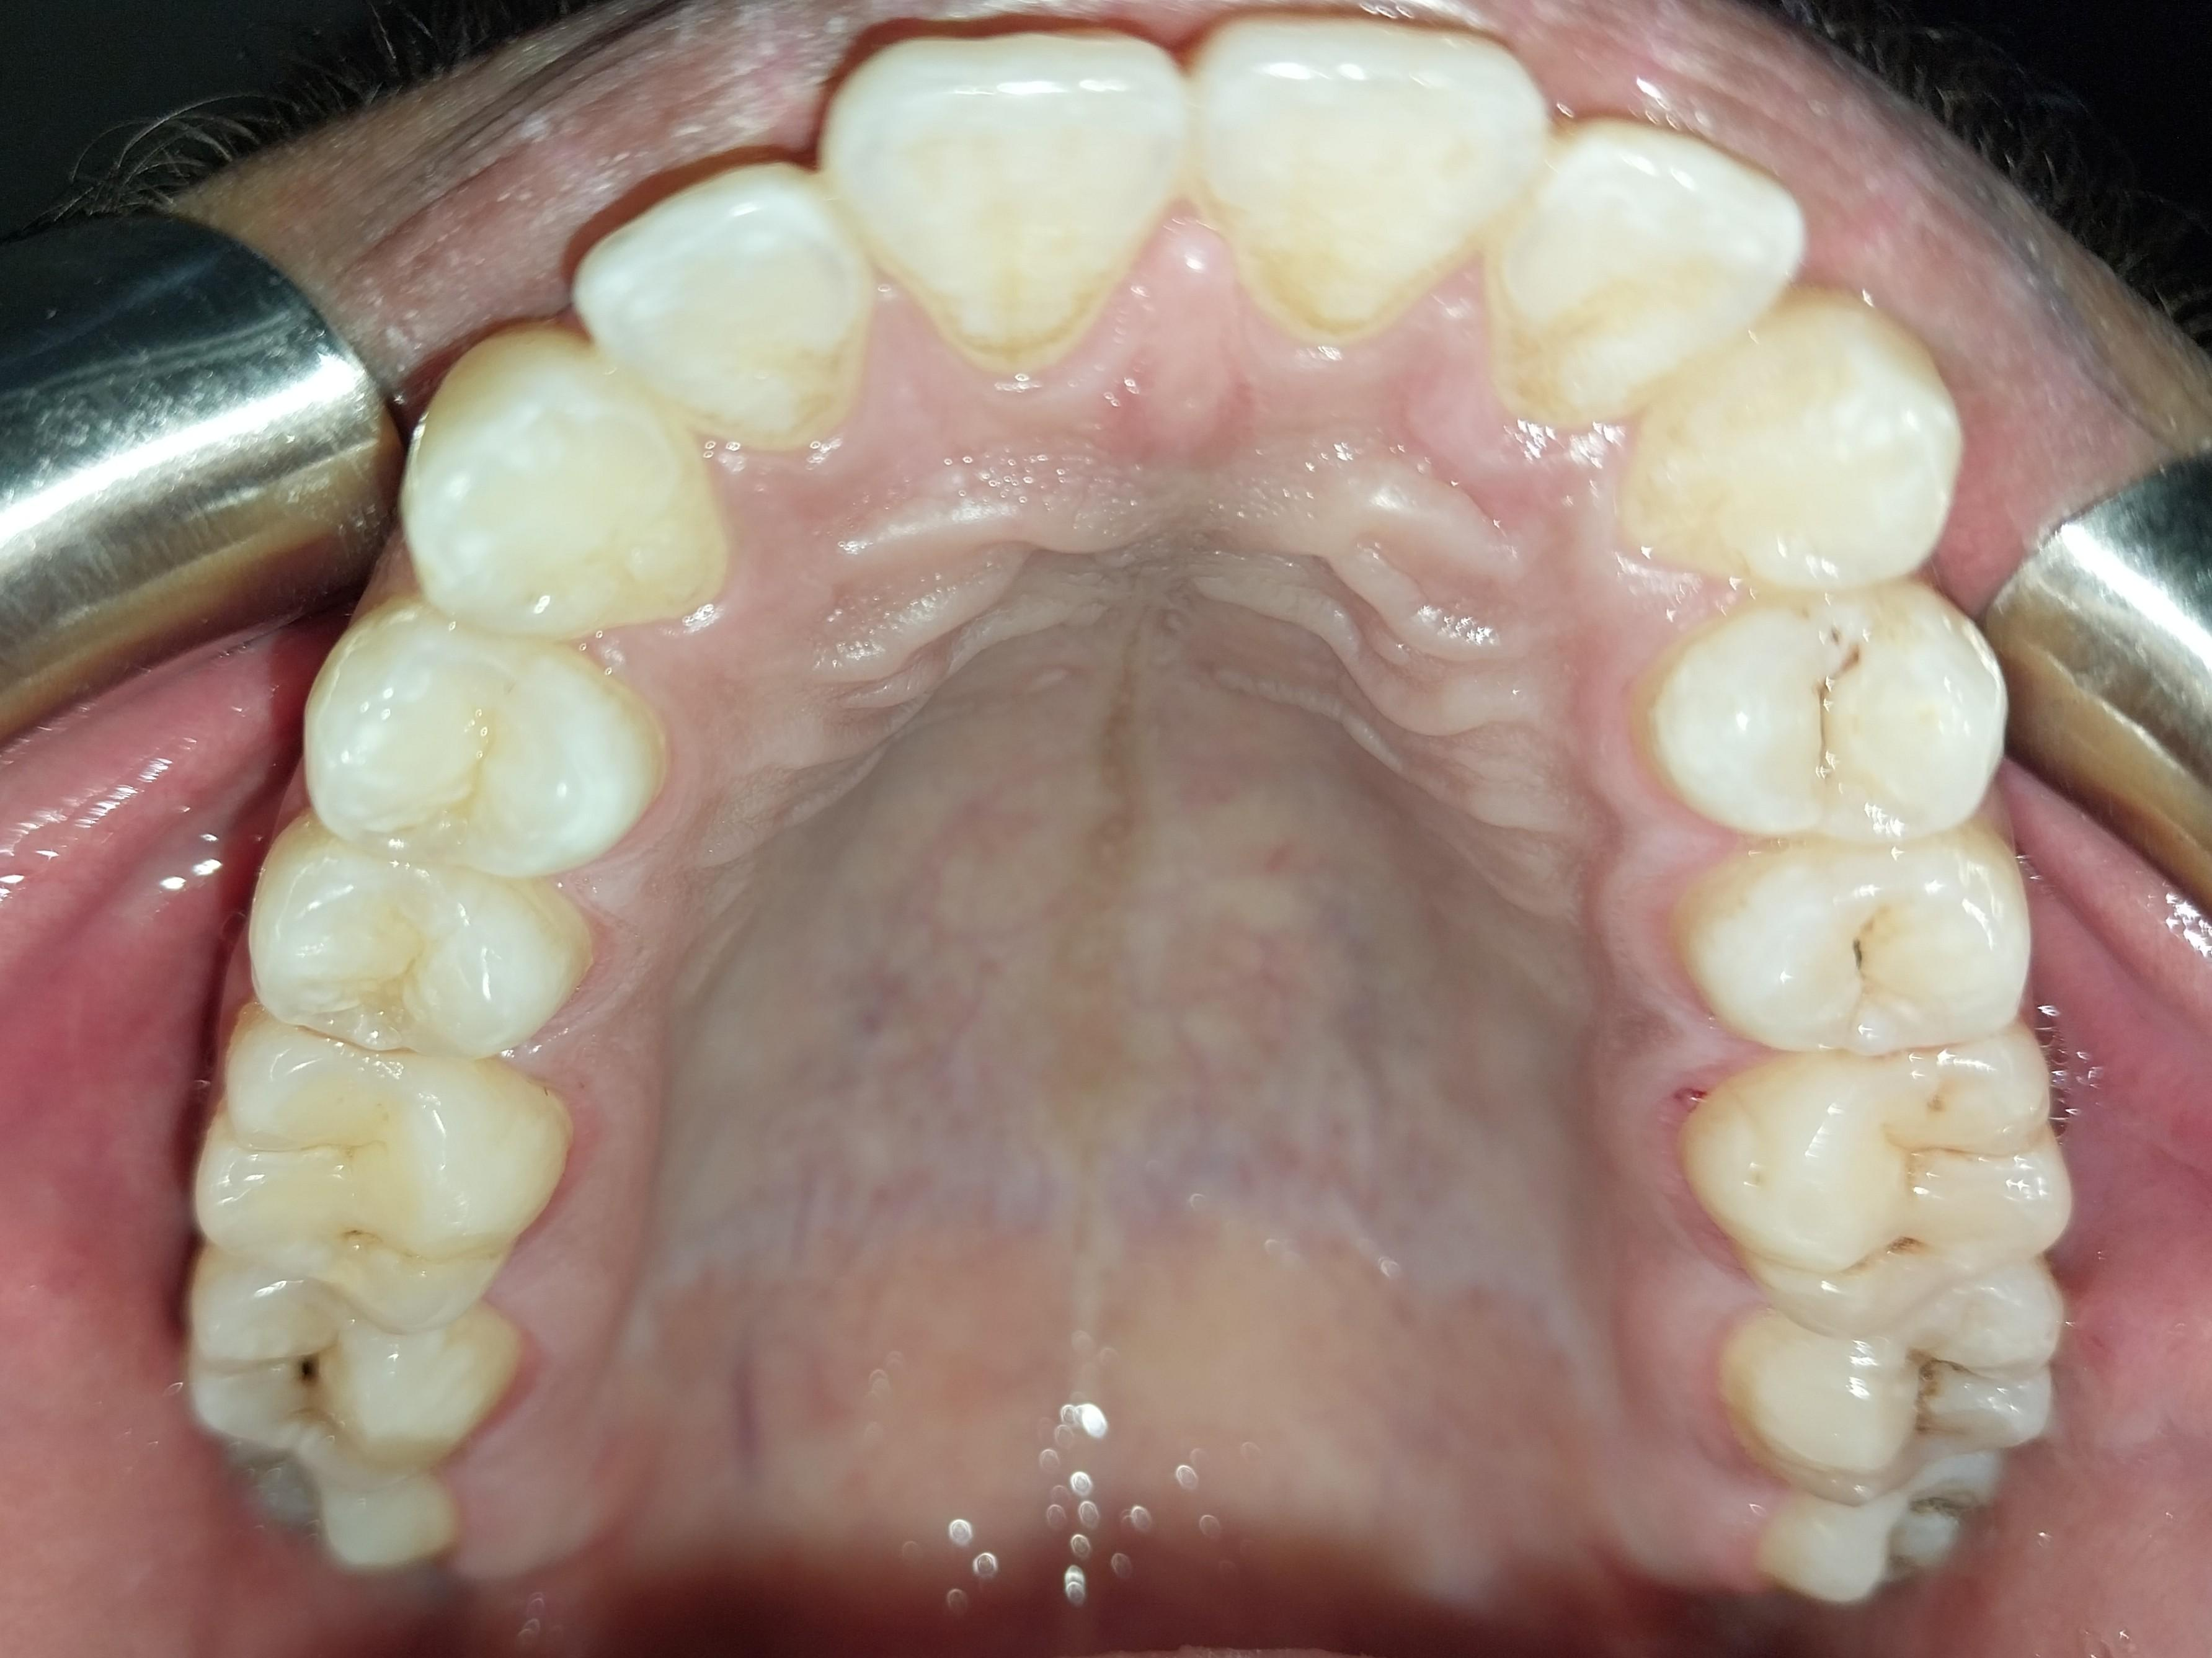D: (1728, 1265, 2062, 1500), (179, 1246, 502, 1475)
